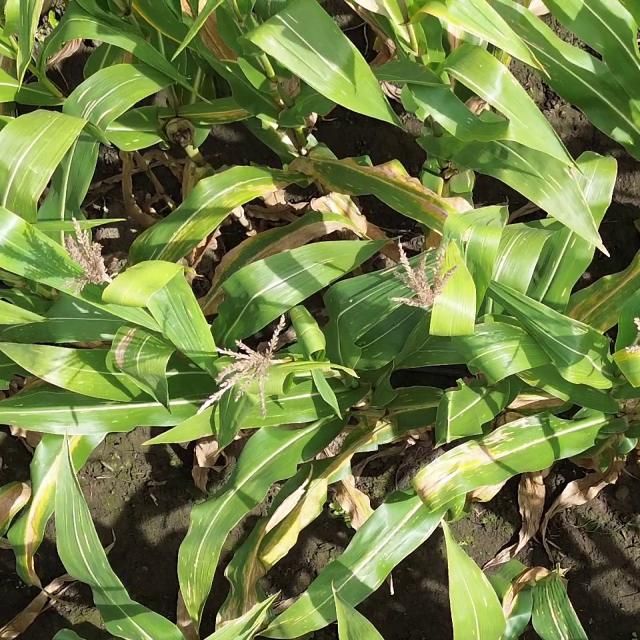gray-leaf-spot: (418, 422, 548, 495), (516, 163, 585, 216), (178, 520, 215, 604), (165, 207, 228, 256), (64, 84, 136, 126), (156, 303, 215, 353), (574, 288, 638, 334), (65, 502, 109, 562), (554, 235, 594, 299), (463, 562, 509, 611), (391, 388, 441, 408)
northern-leaf-blight: (329, 153, 442, 214), (21, 454, 62, 544), (228, 546, 268, 620), (109, 324, 151, 368), (193, 100, 269, 124)
southern-leaf-blight: (36, 348, 114, 397), (360, 522, 409, 580), (531, 593, 575, 640), (413, 334, 449, 368)
